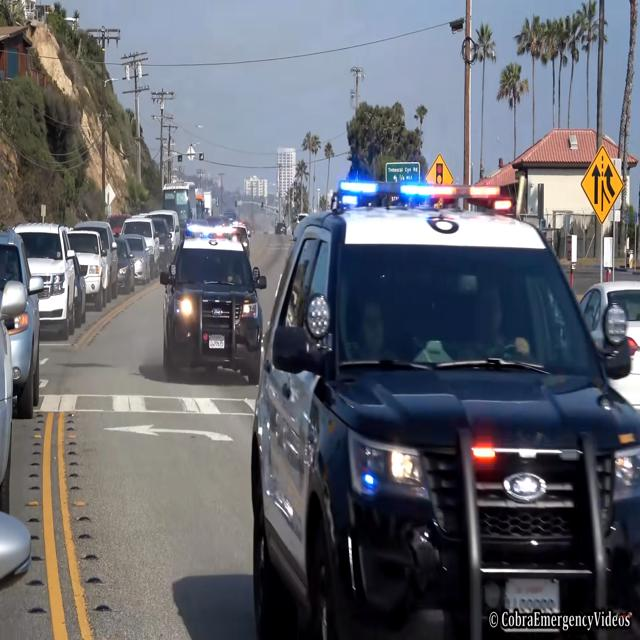emergency-vehicles: (237, 169, 640, 640), (149, 215, 277, 388)
